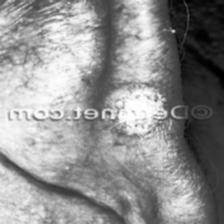Potentially Malignant Skin Tumors: (127, 90, 160, 104), (118, 124, 156, 136)
